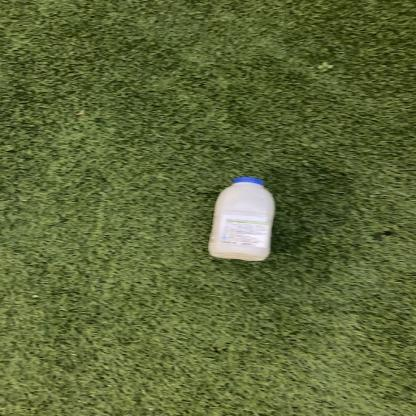trash: (205, 176, 278, 266)
